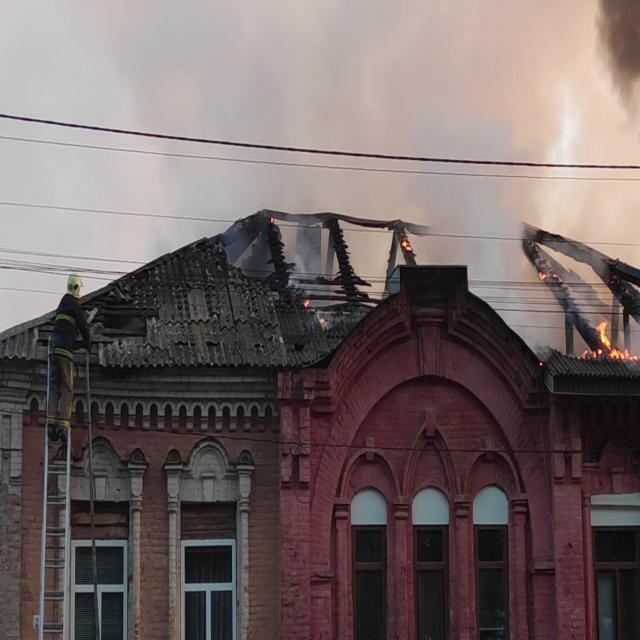fire: (582, 315, 635, 357)
smoke: (437, 154, 503, 258), (595, 0, 640, 98)
